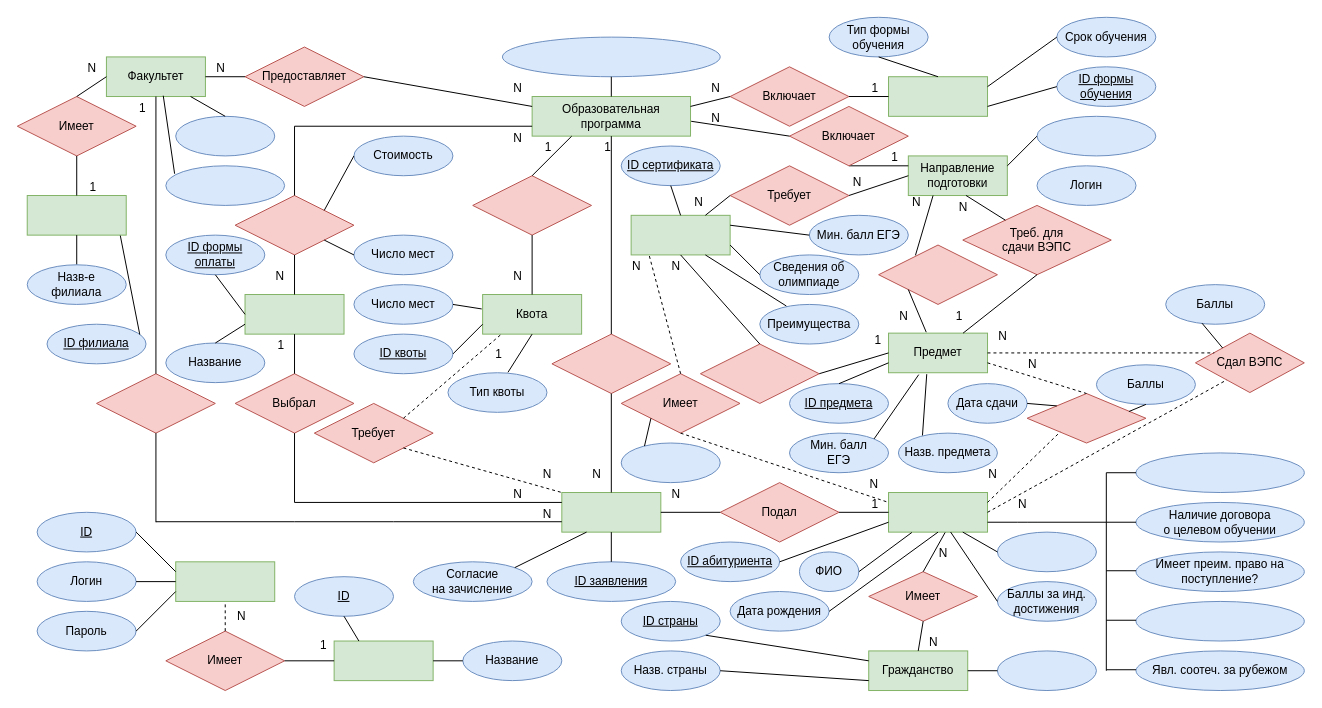
Image size: 1322x708. Some labels were removed from this diagram. The shapes that lost their labels are listed below. From the top down, each one's centre as x and y in pixels, then its label:
At pixel 610 56: "ID образовательной программы".
At pixel 938 96: "Форма обучения".
At pixel 225 135: "Назв-е фак-та".
At pixel 1096 135: "Код направления".
At pixel 225 185: "ID Факультета".
At pixel 532 205: "Выделена".
At pixel 76 215: "Филиал".
At pixel 294 225: "Доступна".
At pixel 680 234: "Сертификат олимпиады".
At pixel 937 274: "Треб. рез. ЕГЭ".
At pixel 294 314: "Форма оплаты".
At pixel 611 363: "Указана".
At pixel 759 373: "Относится".
At pixel 155 403: "Указан".
At pixel 1086 418: "Cдал ЕГЭ".
At pixel 670 462: "Дата получения".
At pixel 1219 472: "Наличие права на особую квоту".
At pixel 611 512: "Заявление".
At pixel 938 512: "Абитуриент".
At pixel 1046 551: "Документ от образовании".
At pixel 225 581: "Пользователь".
At pixel 1219 620: "Явл лицом с ОВЗ?".
At pixel 383 660: "Роль".
At pixel 1046 670: "Наличие дог-а с РФ".
